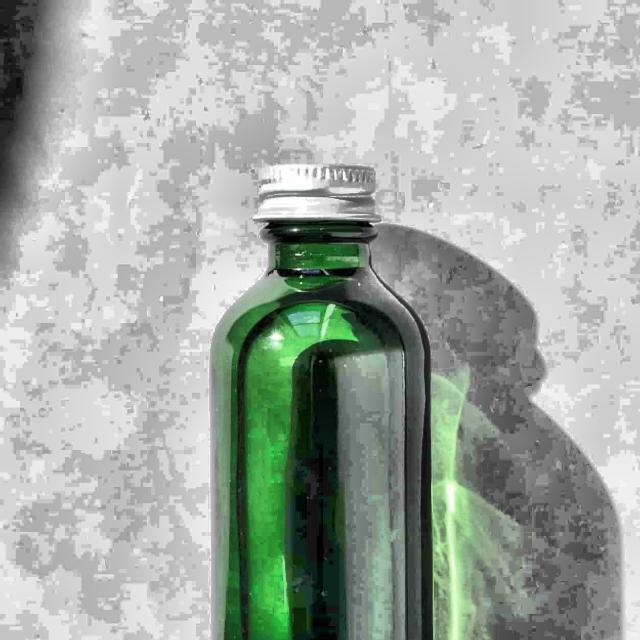glass: (211, 166, 430, 640)
